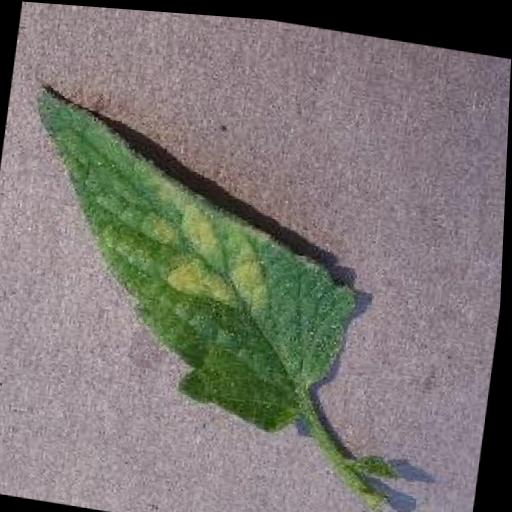Leaf Mold: (0, 81, 381, 435)
